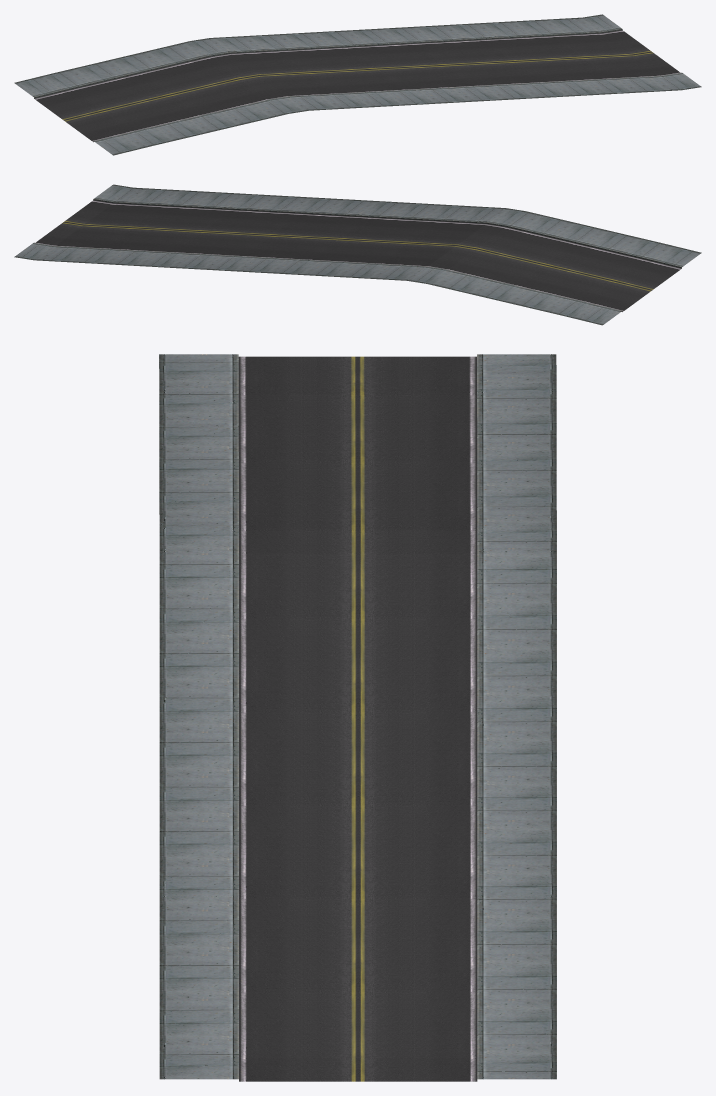
File: laeroad32.obj
The picture shows the model from 3 angles, top to bottom: view 1: azimuth 30°, elevation 25°; view 2: azimuth 150°, elevation 25°; view 3: azimuth 270°, elevation 25°; orthographic projection. The views are drawn at different scales.
Visible parts, largest first — view 1: laeroad32; view 2: laeroad32; view 3: laeroad32.
Part boxes in pixels (box(x1,y1,x2,y2)): laeroad32: box(14, 14, 701, 155); laeroad32: box(14, 184, 701, 325); laeroad32: box(159, 354, 556, 1081).
Size of the model in its own units: 85.52 by 10.61 by 25.03.
